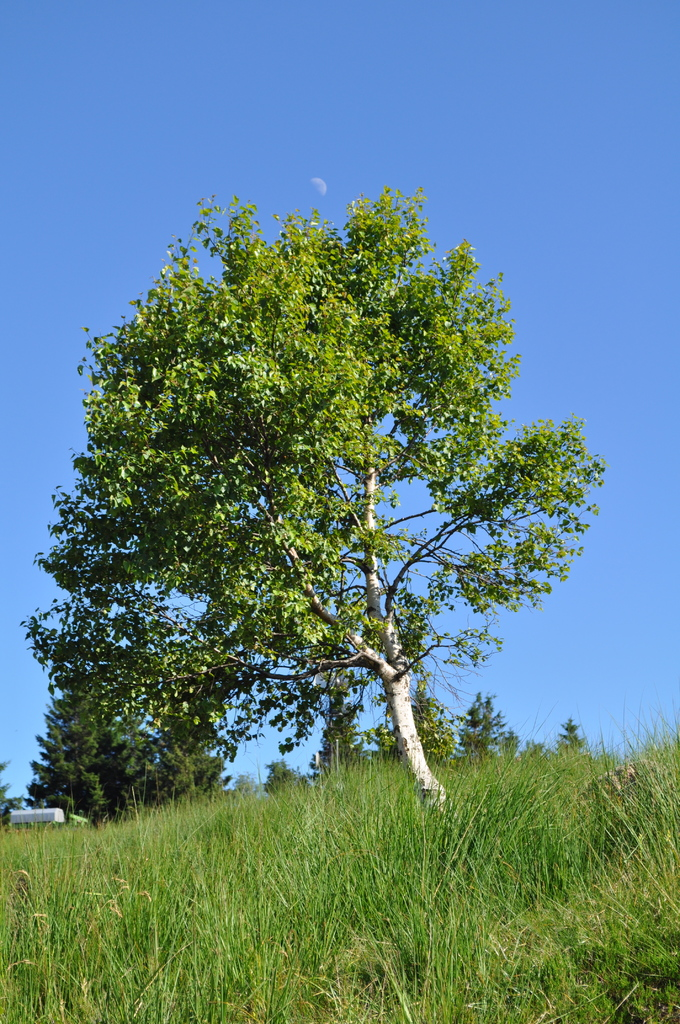Tree: (20, 185, 610, 812)
